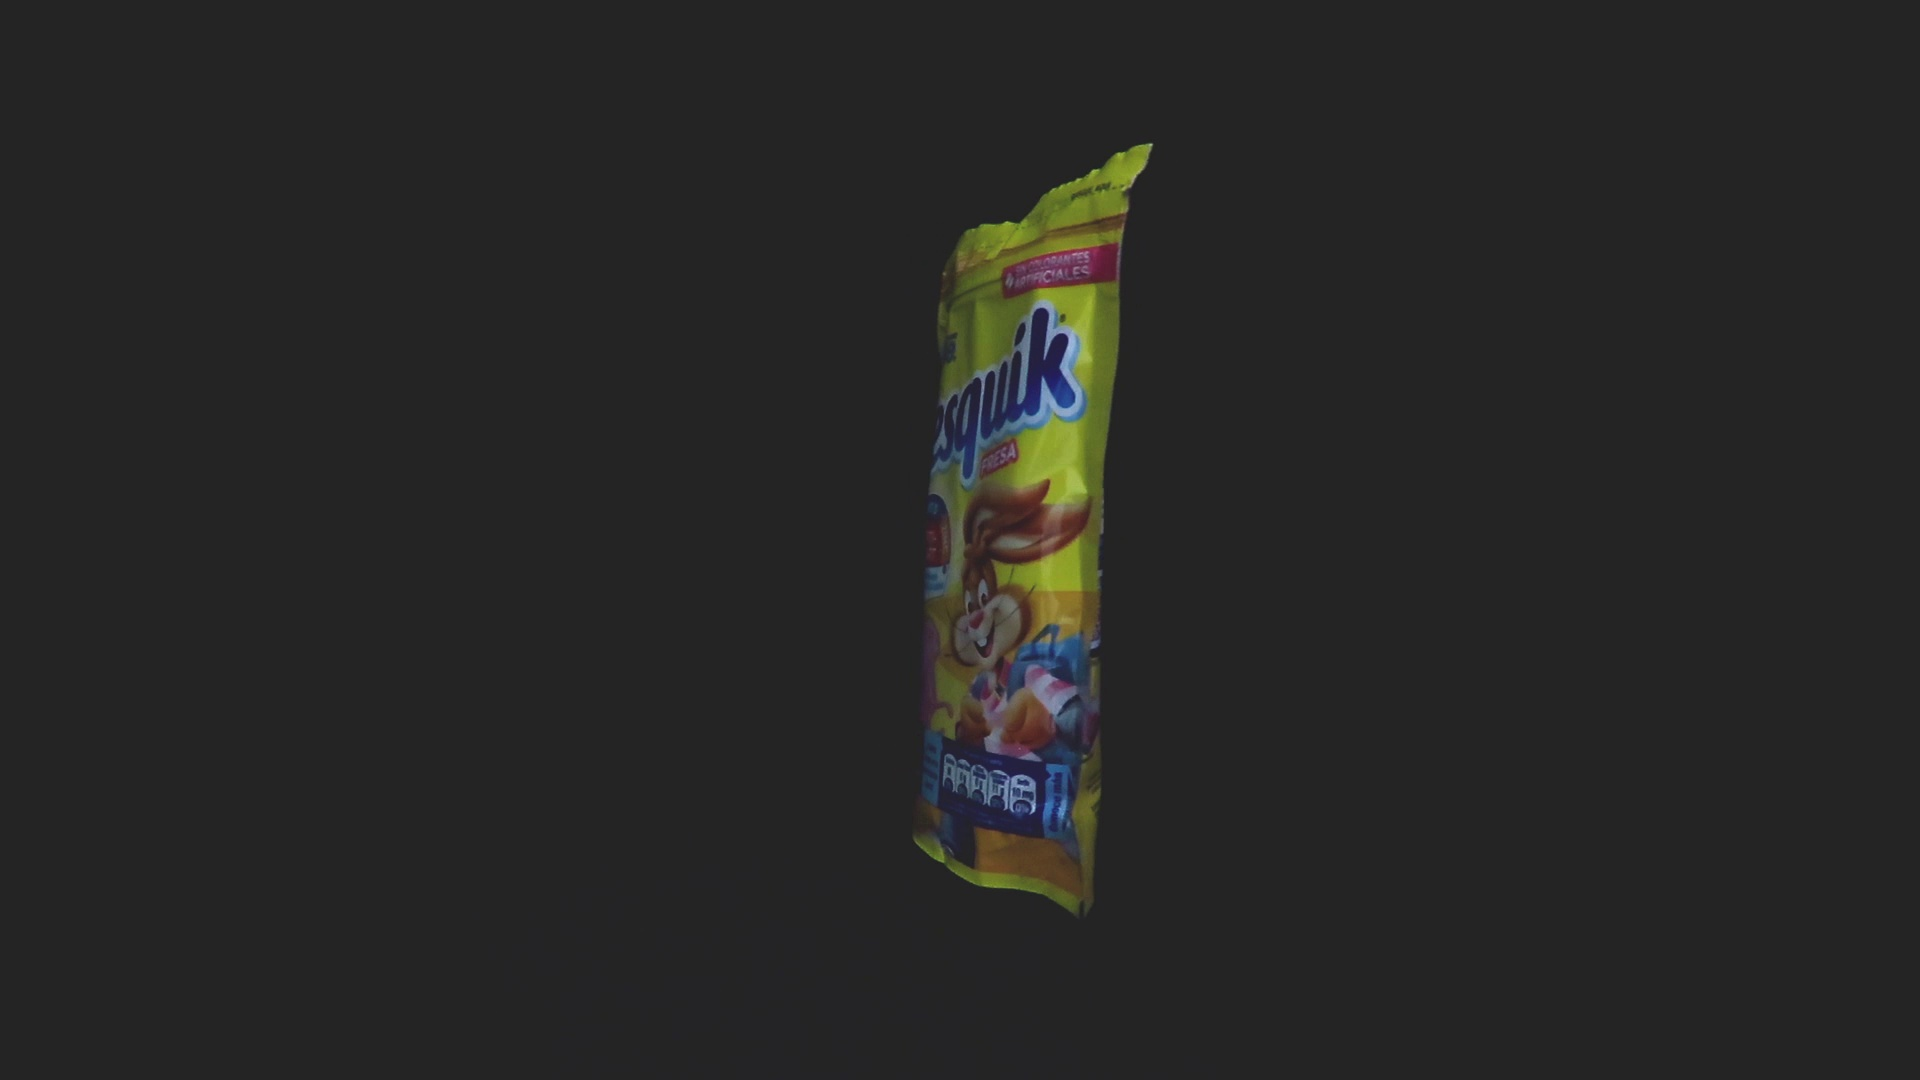COL0170305DYP20000: (907, 138, 1159, 924)
